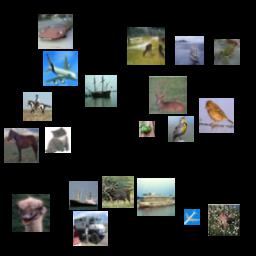airplane: (43, 51, 78, 86), (184, 209, 200, 225)
automobile: (38, 14, 73, 49)
bird: (12, 194, 50, 232), (199, 98, 234, 133), (168, 116, 194, 142)
cat: (45, 127, 71, 153)
deer: (149, 76, 187, 114), (127, 27, 165, 65), (208, 204, 240, 236), (102, 176, 134, 208)
frog: (214, 39, 240, 65), (139, 121, 155, 137)
ship: (137, 178, 175, 216), (85, 75, 117, 107), (175, 36, 204, 65), (69, 181, 98, 210)
truck: (73, 211, 108, 246)
